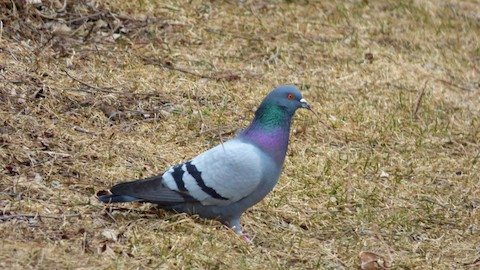pigeon: (94, 83, 319, 246)
